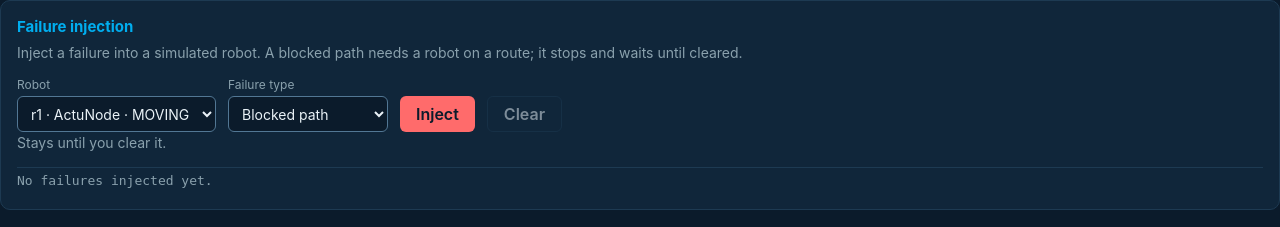
Test: failure injection › shows that an injection is being sent and cannot be sent twice
The image size is (1280, 227).
Click the button "Inject" at (437, 114), box 400,96 -> 475,132
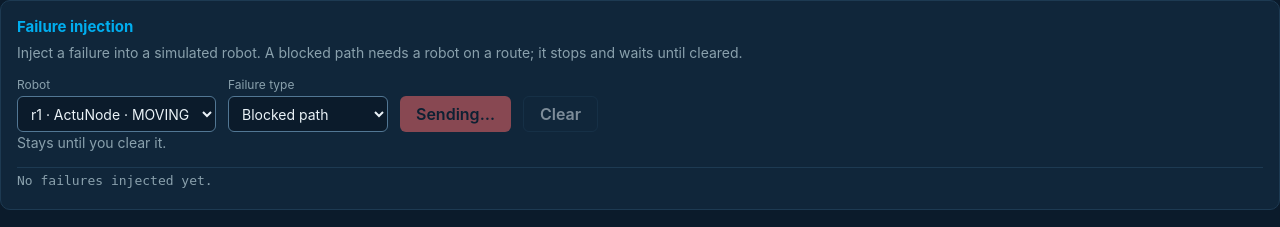
Check: the button "Sending…" is disabled, box 400,96 -> 511,132
